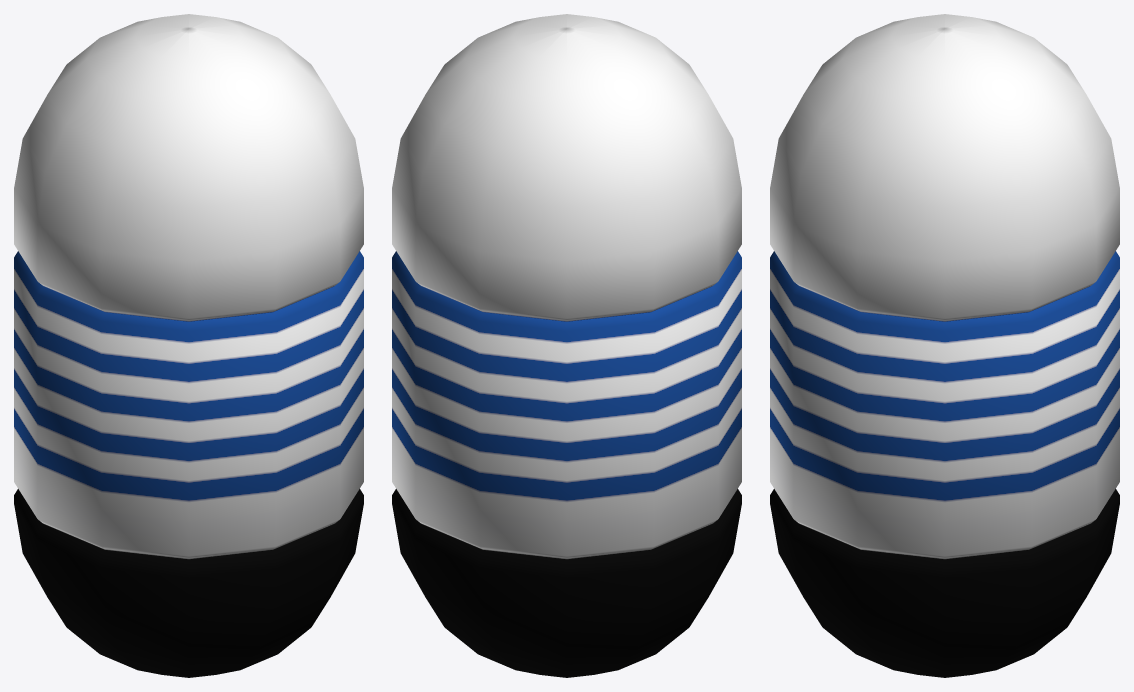
Rendered from CapsulePlayer.fbx.
The picture shows the model from 3 angles, left to right: view 1: azimuth 30°, elevation 25°; view 2: azimuth 150°, elevation 25°; view 3: azimuth 270°, elevation 25°; orthographic projection.
Visible parts, largest first — view 1: Head, Body, Legs; view 2: Head, Body, Legs; view 3: Head, Body, Legs.
Part boxes in pixels (<box>): Head: <box>14,14,363,321</box>; Body: <box>14,251,363,559</box>; Legs: <box>14,489,363,677</box>; Head: <box>392,14,741,321</box>; Body: <box>392,251,741,559</box>; Legs: <box>392,489,741,677</box>; Head: <box>770,14,1119,321</box>; Body: <box>770,251,1119,559</box>; Legs: <box>770,489,1119,677</box>.
Bounding box in the file's own units: 100 × 100 × 200.
